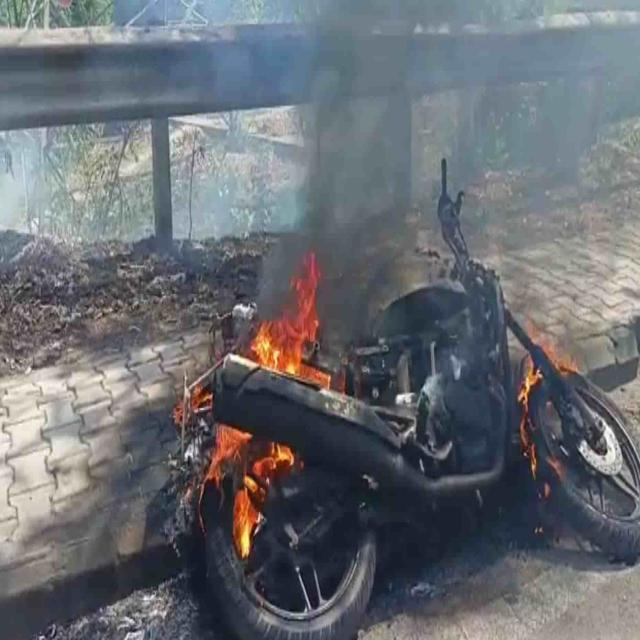fire: (206, 421, 300, 556), (250, 288, 318, 389)
